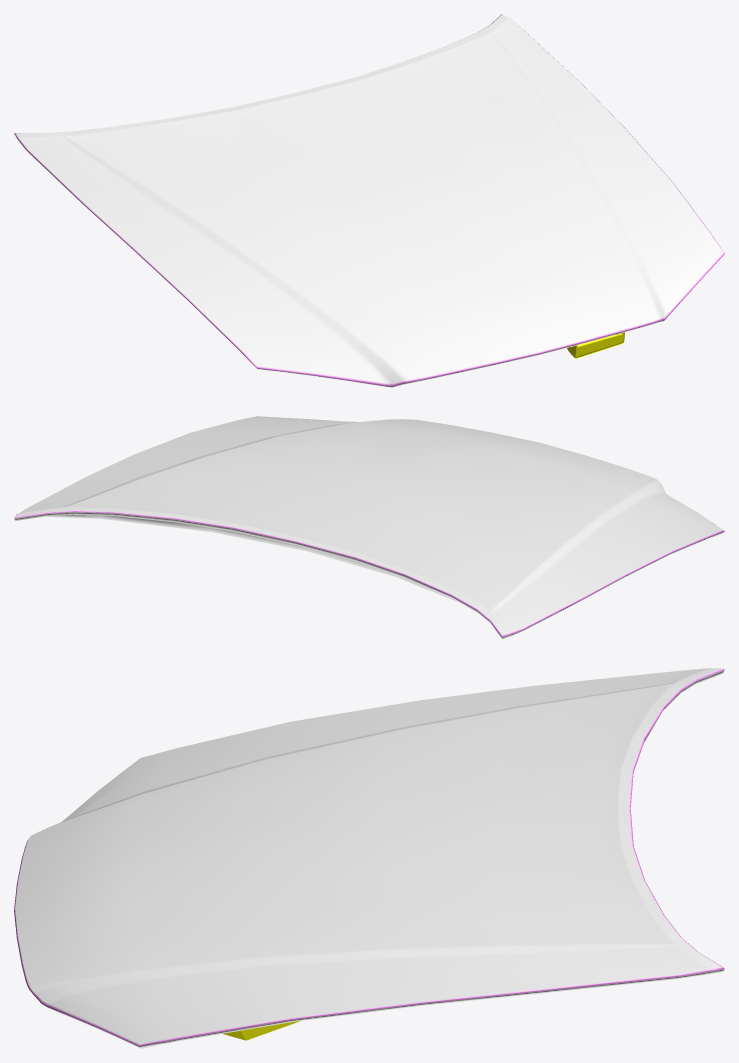
The model's file is Car_Nissan_SkylineGTRVspecR34_1999_Hood_SetA.fbx.
The picture shows the model from 3 angles, top to bottom: view 1: azimuth 30°, elevation 25°; view 2: azimuth 150°, elevation 25°; view 3: azimuth 270°, elevation 25°; orthographic projection. The views are drawn at different scales.
Visible parts, largest first — view 1: Hood 6; view 2: Hood 6; view 3: Hood 6.
Boxes of the visible parts, x1,y1,x2,y2 form: Hood 6: [14, 14, 724, 387]; Hood 6: [14, 416, 724, 639]; Hood 6: [14, 668, 724, 1048].
Bounding box in the file's own units: 1.44 × 0.3017 × 1.42.
